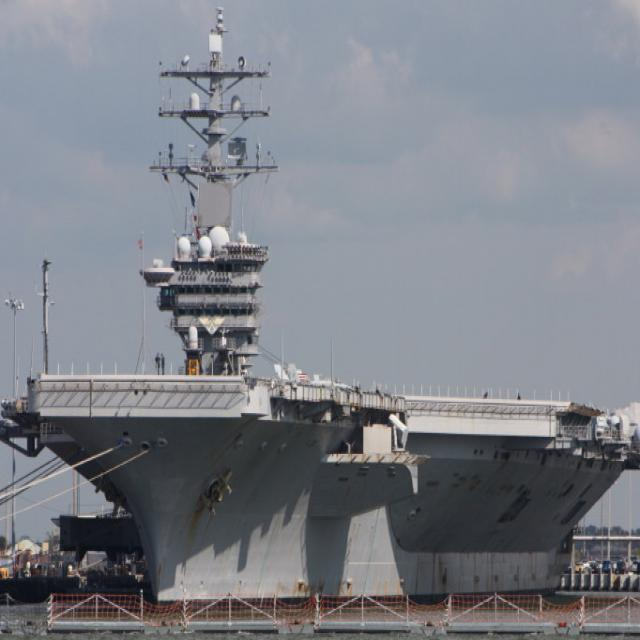Portanaves: (1, 5, 640, 617)
